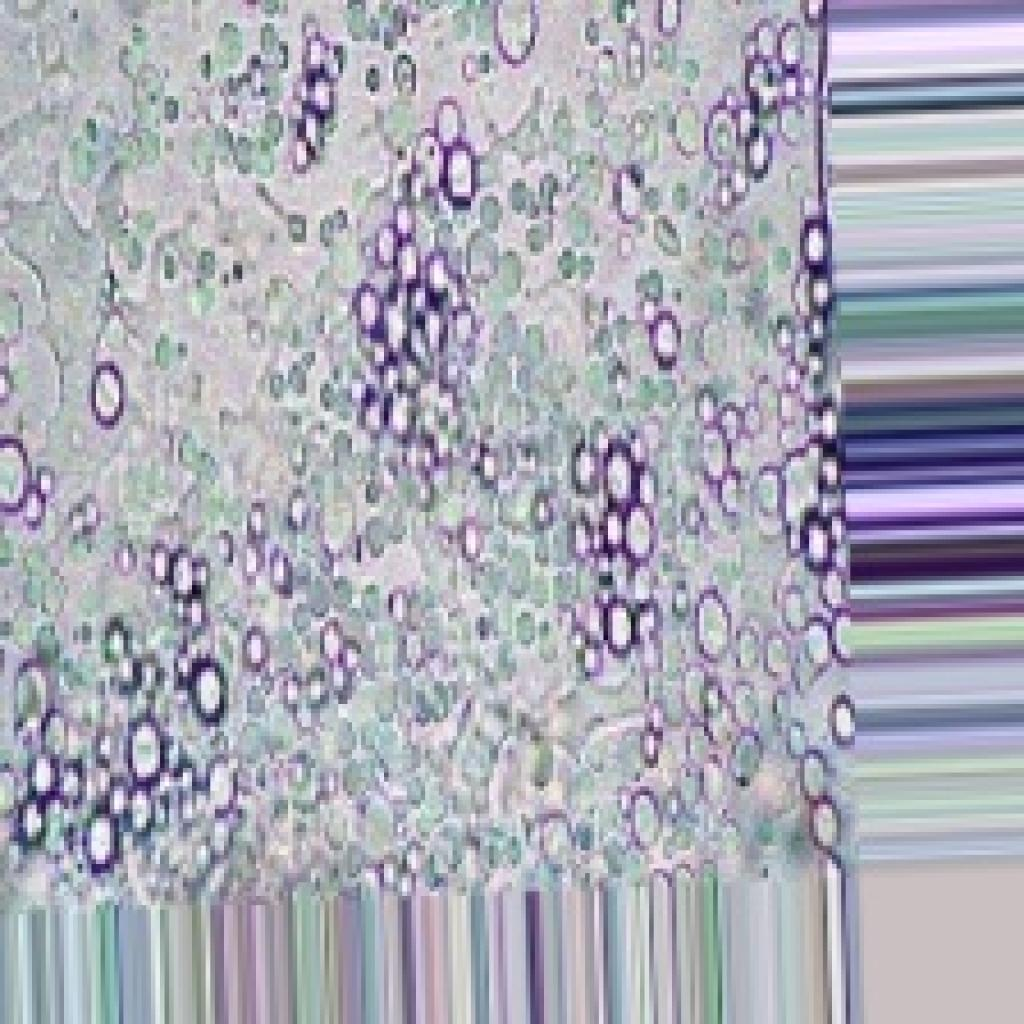Sphericalbacteria: (0, 0, 859, 909)
